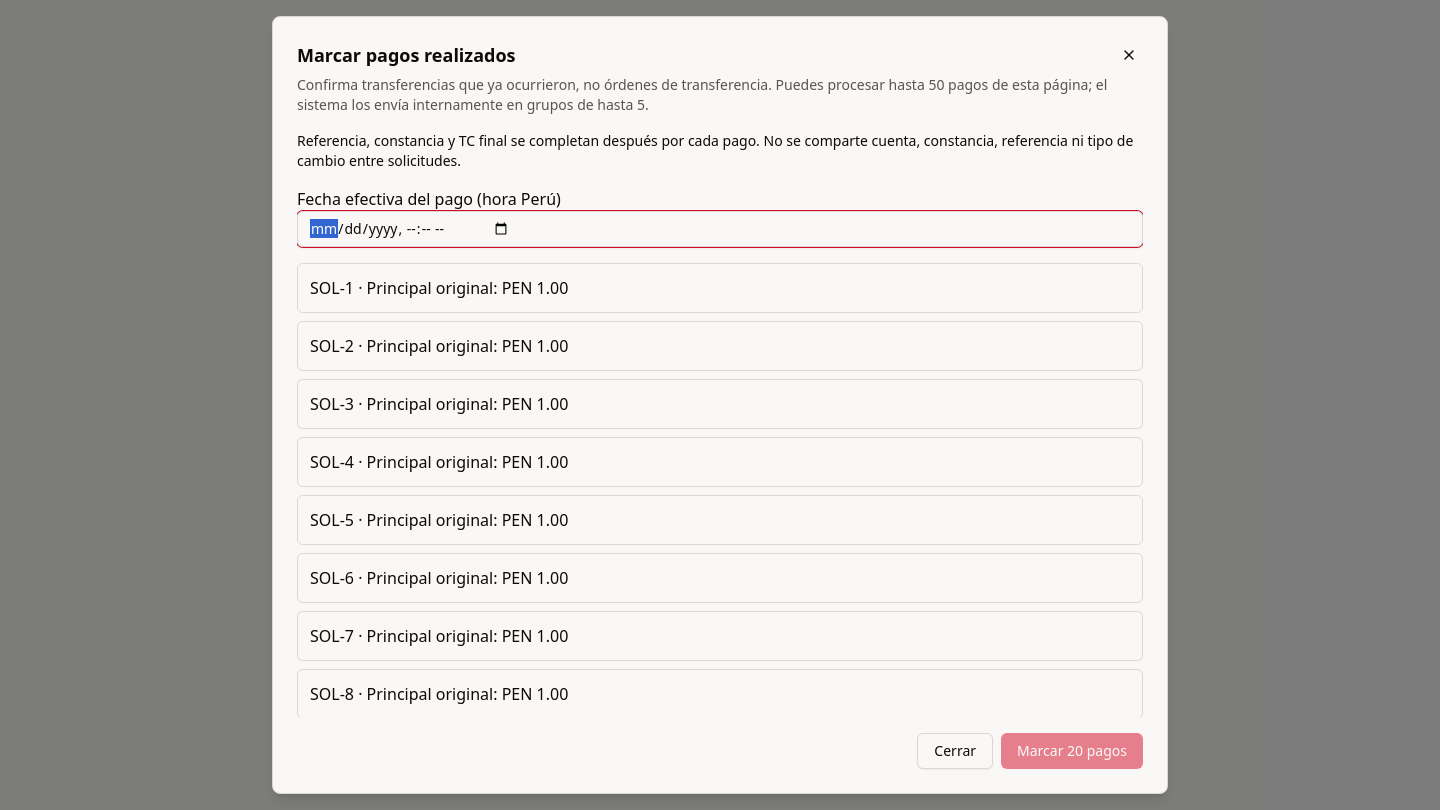
Scenario: bulk payment modals › procesa veinte en cuatro grupos internos de hasta cinco y anuncia totales exactos
In the field labelled "Fecha efectiva del pago (hora Perú)": (720, 229) [297, 211, 1143, 247], type "2026-09-10T10:30"
(page scrolled)
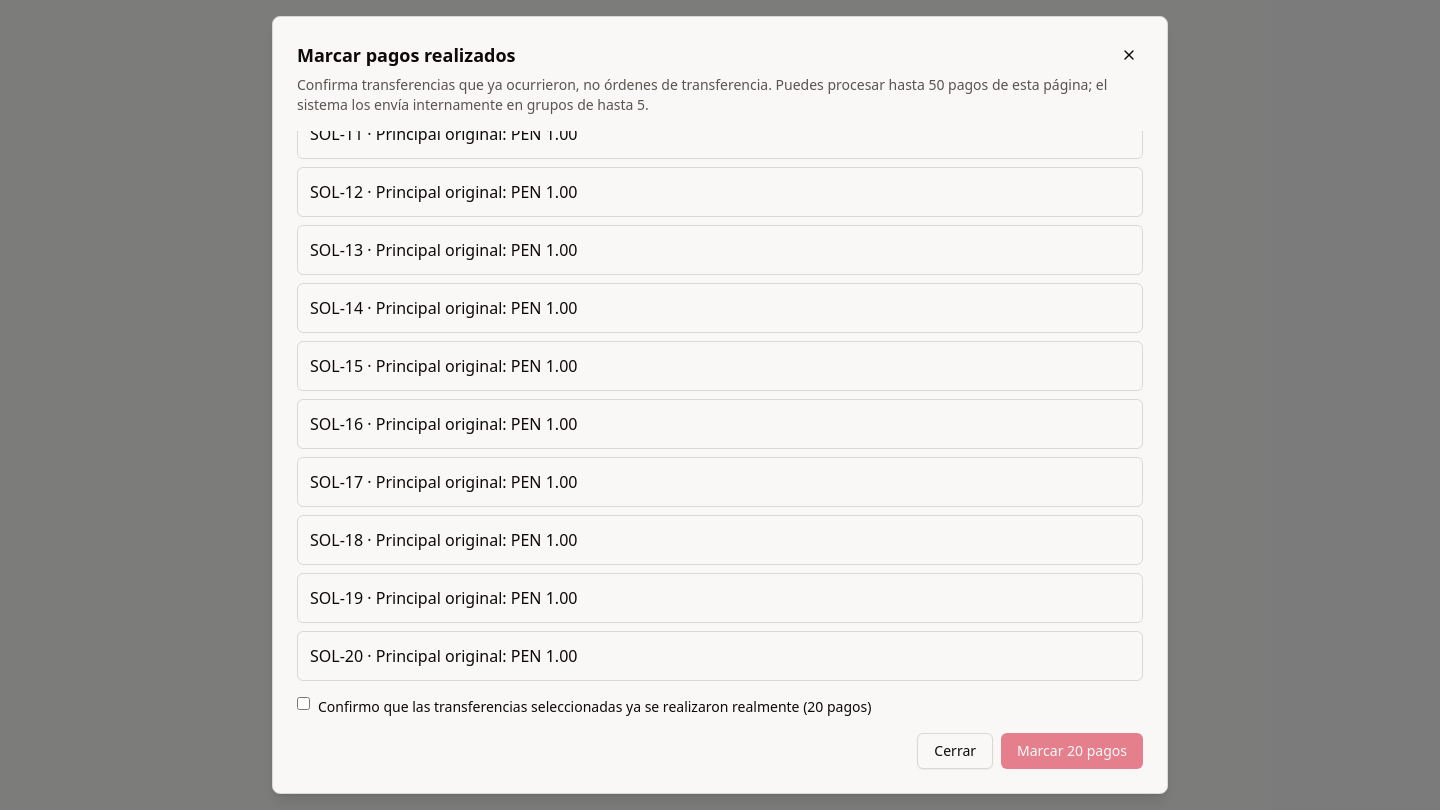
Click the checkbox labelled "Confirmo que las transferencias": click(304, 704) [297, 697, 310, 710]
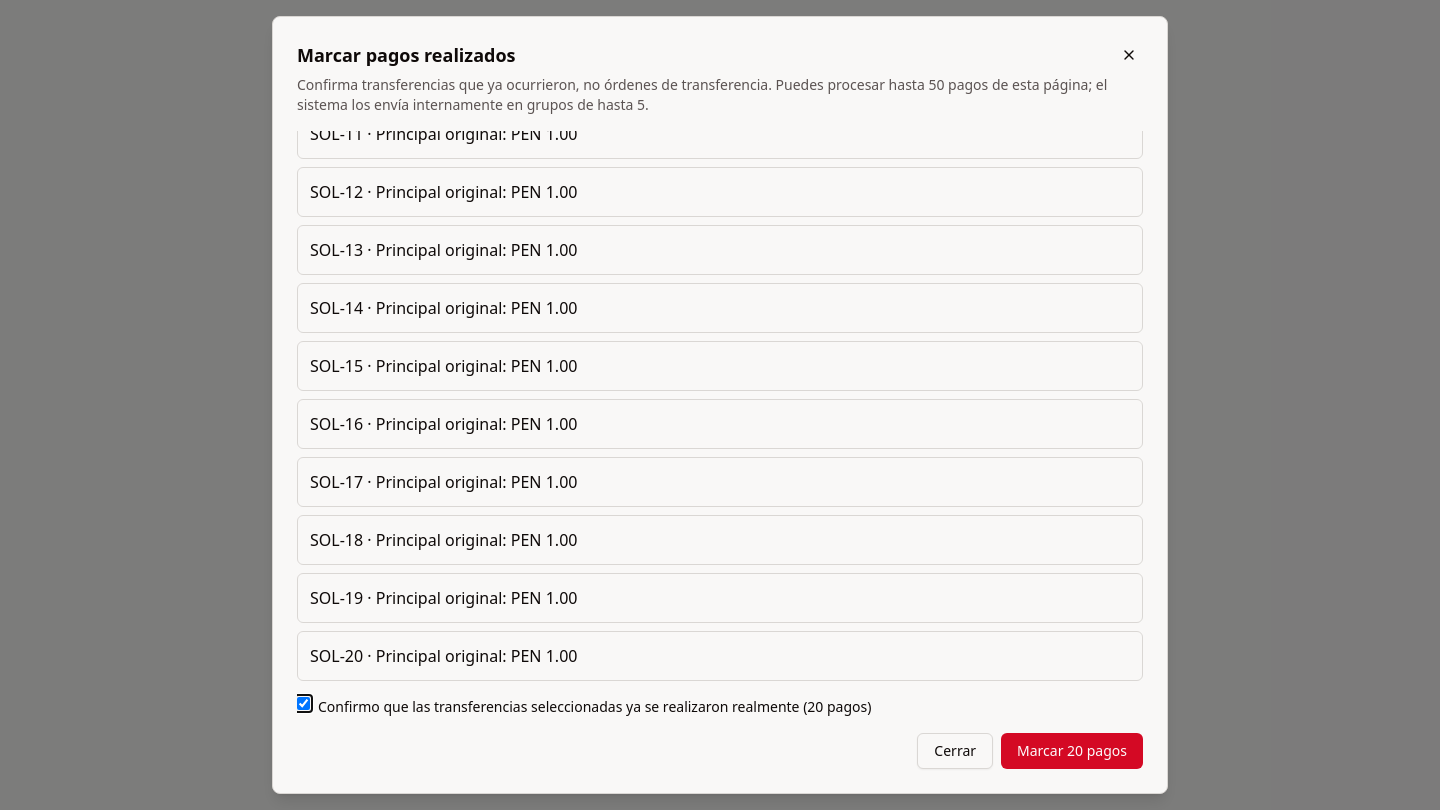
Click the button "Marcar 20 pagos": click(1072, 751) [1001, 733, 1143, 769]
(page scrolled)
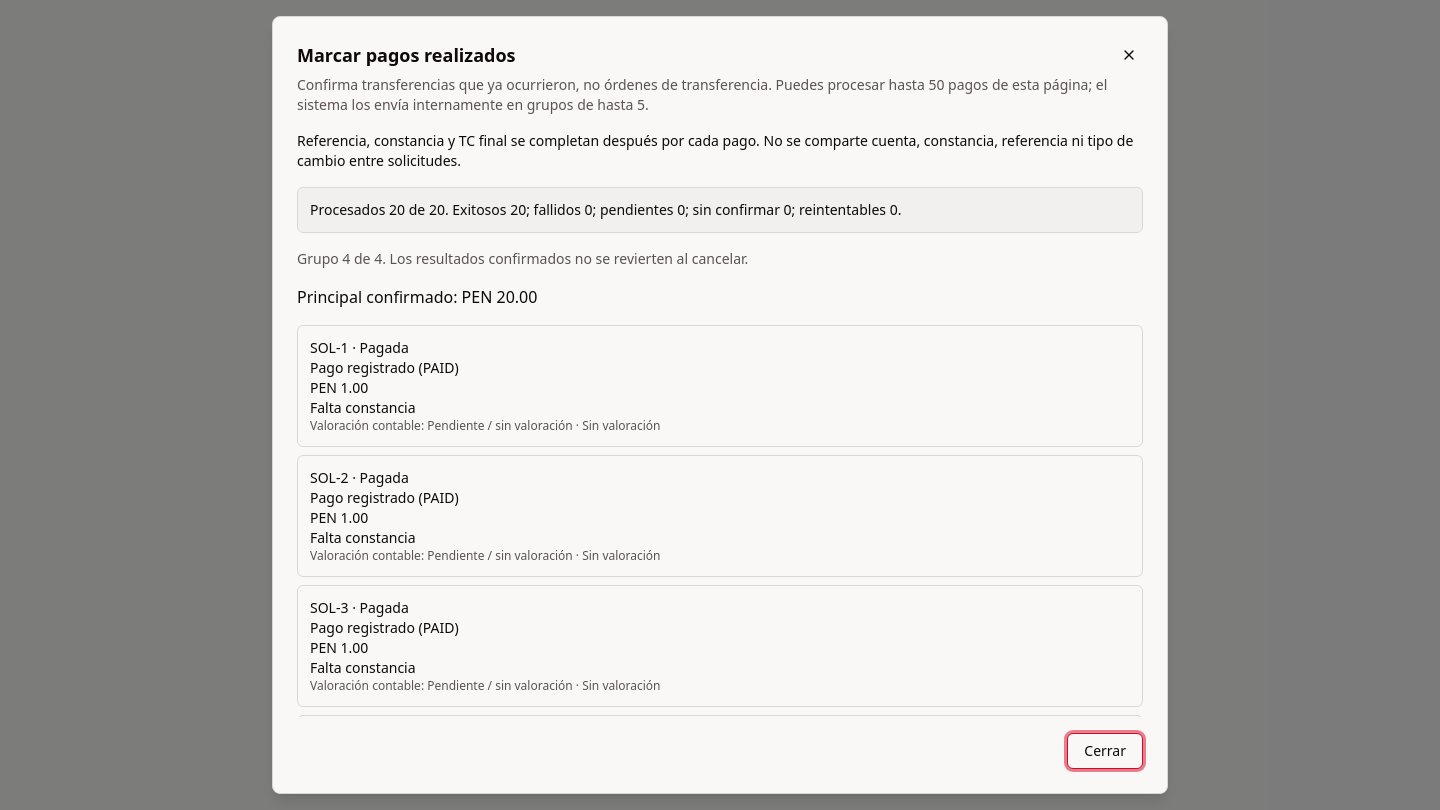
Expected: the message shows "Procesados 20 de 20", [297, 187, 1143, 233]
Expected: the text "Principal confirmado: PEN 20.00" is shown, [297, 286, 537, 308]
